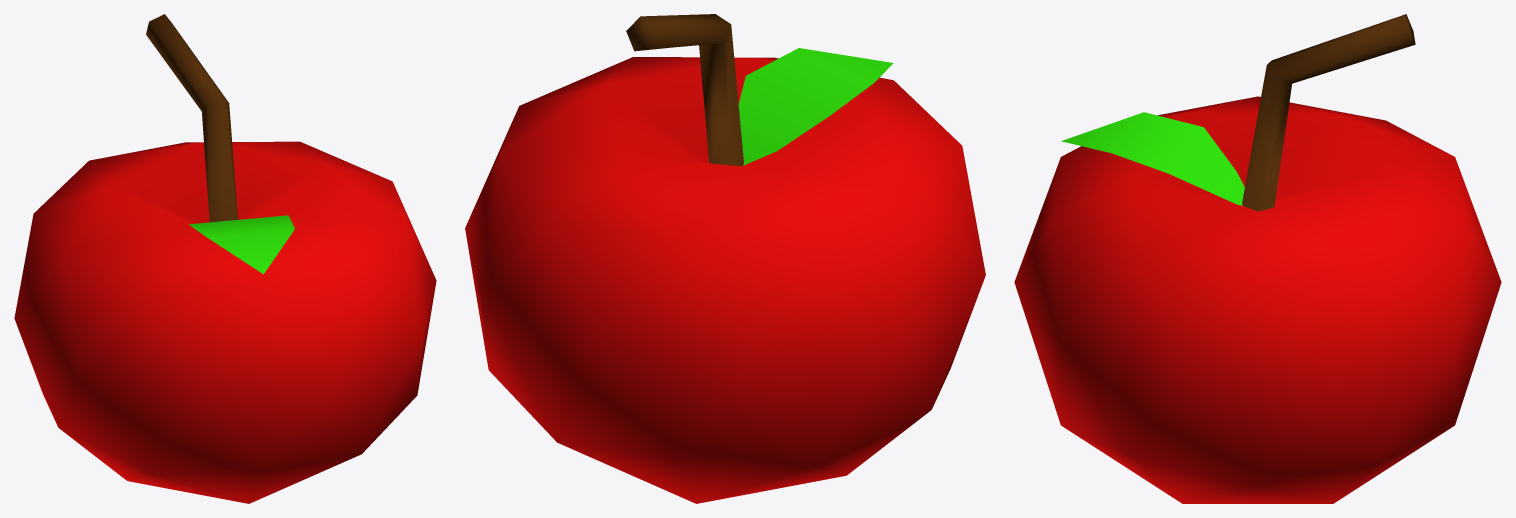
The model's file is appleModel.fbx.
3 views of the same model, side by side, from view 1: azimuth 30°, elevation 25°; view 2: azimuth 150°, elevation 25°; view 3: azimuth 270°, elevation 25° (orthographic). The views are drawn at different scales.
Visible parts, largest first — view 1: Icosphere; view 2: Icosphere; view 3: Icosphere.
Part boxes in pixels (left/top/right/bottom): Icosphere: left=14, top=14, right=436, bottom=503; Icosphere: left=465, top=14, right=985, bottom=503; Icosphere: left=1014, top=14, right=1501, bottom=503.
Bounding box in the file's own units: 190 × 202 × 200.
